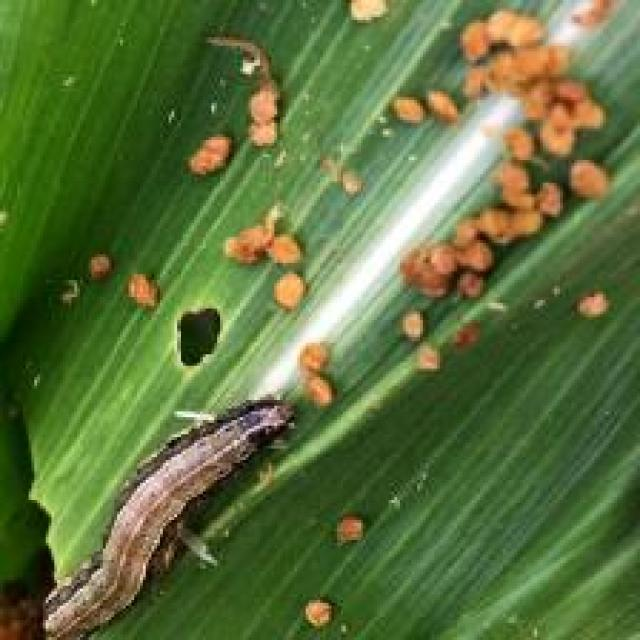Plaga: (17, 375, 334, 640)
